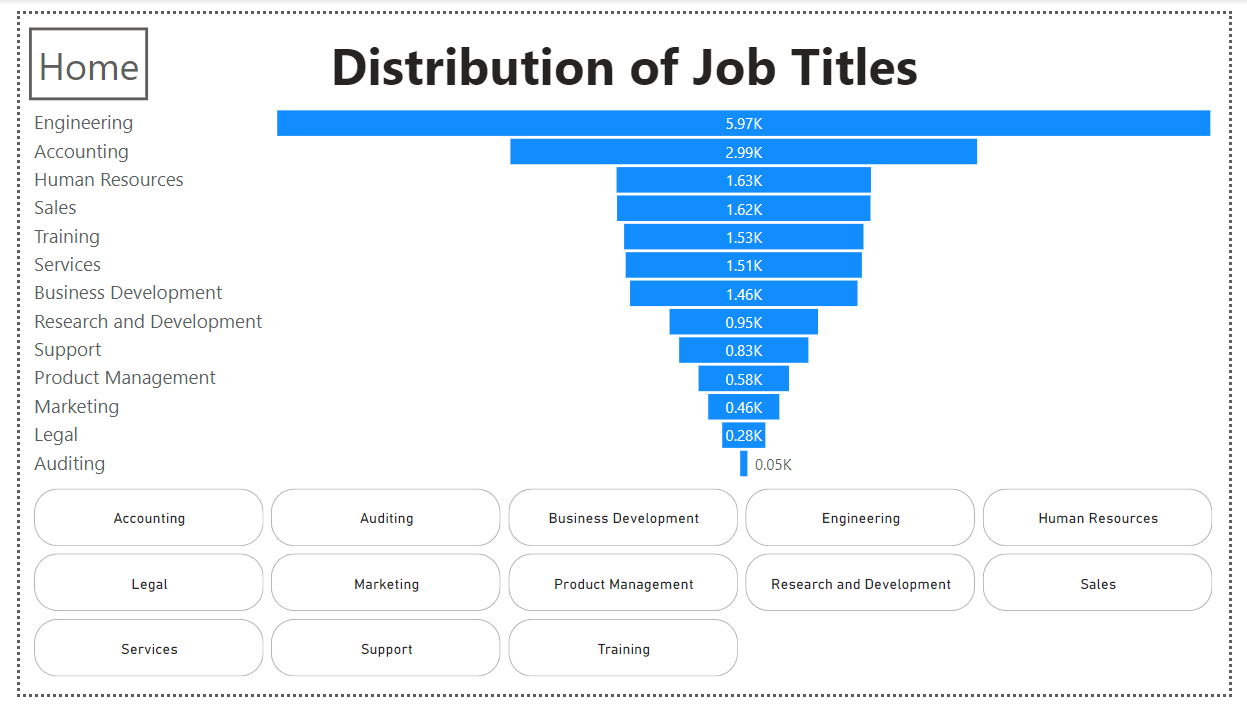

Layout of this report page (visuals, bound fields, positions):
{"tool":"powerbi","page":{"name":"Distribution of Job Titles","canvas":[1280,720],"ordinal":7},"visuals":[{"type":"advancedSlicerVisual","fields":{"Values":["hr.department"]},"box":[9.7,497.1,1259.8,210.5],"z":0},{"type":"textbox","box":[9.7,13,1259.8,81],"z":1000},{"type":"funnel","fields":{"Category":["hr.department"],"Y":["CountNonNull(hr.jobtitle)"]},"box":[9.7,93.9,1259.8,403.2],"z":1001},{"type":"actionButton","box":[9,14,126,77],"z":1002}]}

Visuals, with their boxes in screenshot pixels (x1, y1, x2, y2), scaled from the page's 1280x720 canvas onto the 1247x708 screenshot:
advancedSlicerVisual - hr.department: (left=9, top=489, right=1237, bottom=696)
textbox: (left=9, top=13, right=1237, bottom=92)
funnel - hr.department x CountNonNull(hr.jobtitle): (left=9, top=92, right=1237, bottom=489)
actionButton: (left=9, top=14, right=132, bottom=89)
